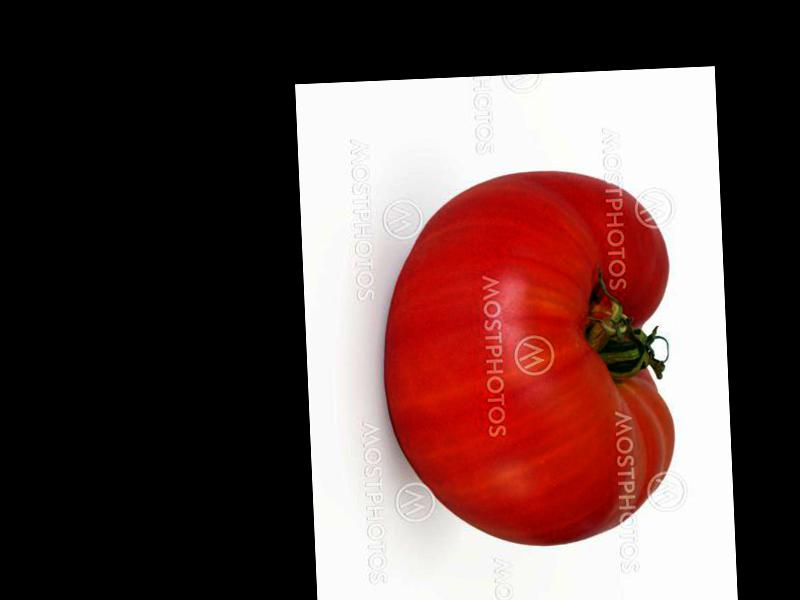Tomato: (377, 167, 681, 552)
